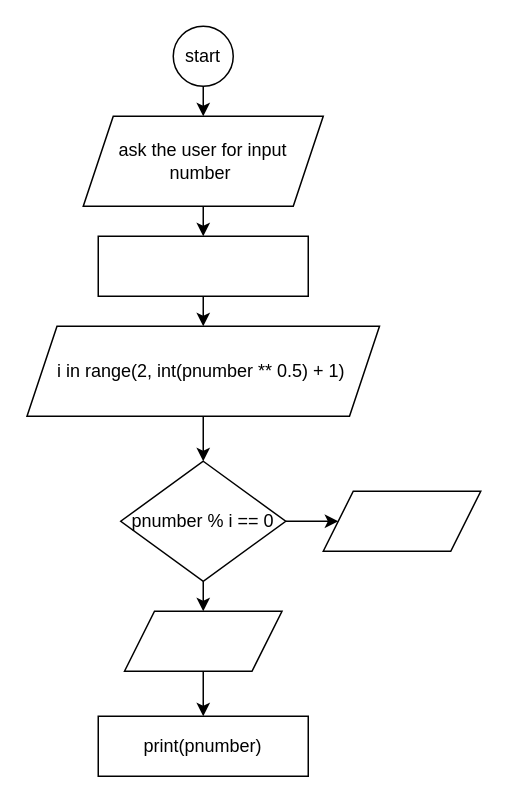
The diagram is 507 pixels wide and 803 high, and some of its shapes have lost their labels. Here are the shapes that lost their labels. From the top down, the centre of each, then its label:
At pixel 202 265: "pnumber = number + 1".
At pixel 401 520: "prime = False".
At pixel 202 640: "pnumber += 1".
